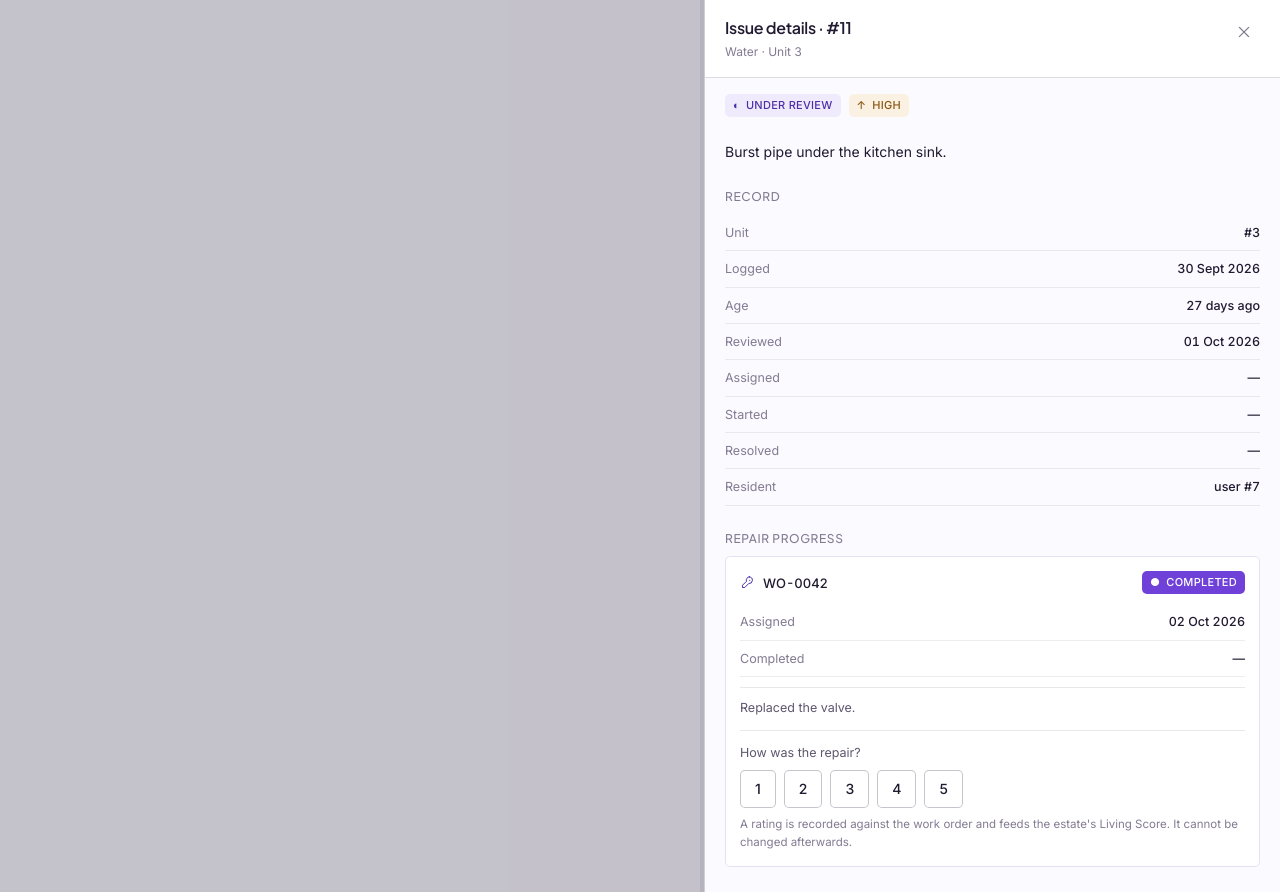
Test: ComplaintDrawer — the resident’s repair › posts the resident’s own rating once the work is completed
expect the text "Replaced the valve." is shown: met, box [740,687,1245,718]
Click the button named "rate the repair 4 out of 5".
click(897, 789)  # box [877,770,916,808]
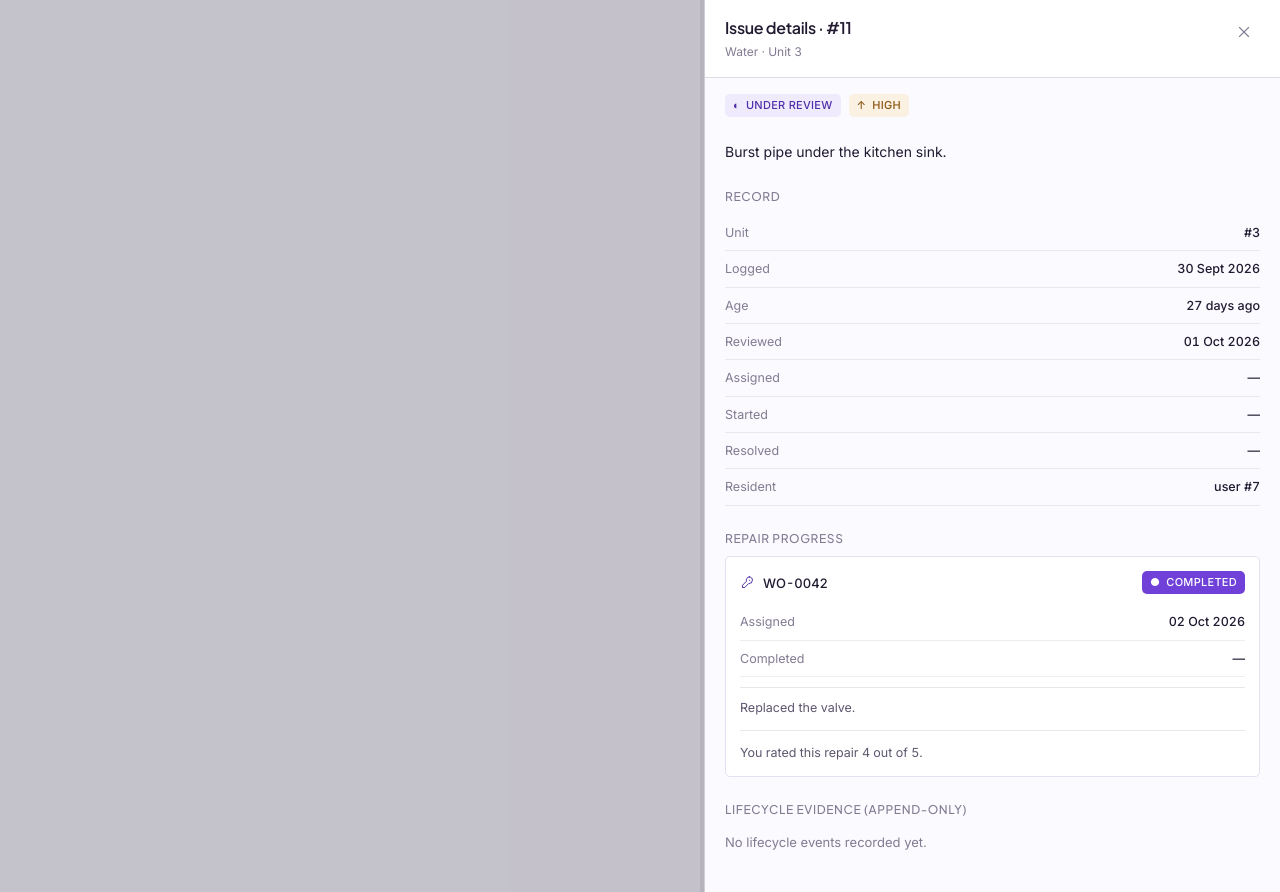
expect the text "You rated this repair 4 out of 5." is shown: met, box [740,730,1245,762]
